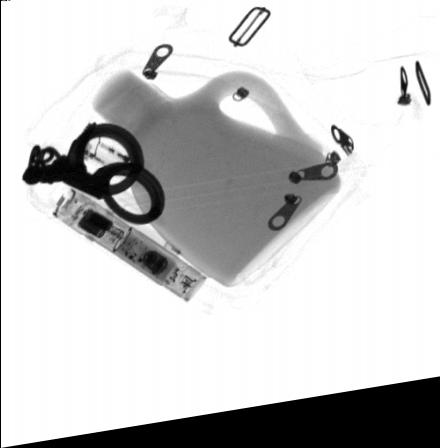Baton: (53, 187, 206, 307)
HandCuffs: (21, 125, 164, 230)
Lighter: (68, 136, 133, 183)
